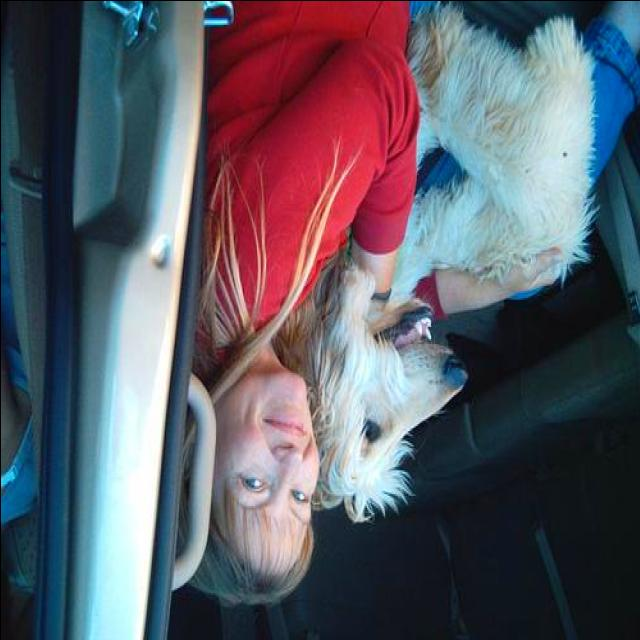afghan_hound: (272, 1, 600, 528)
